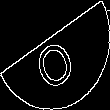O_NW: (29, 22, 81, 88)
